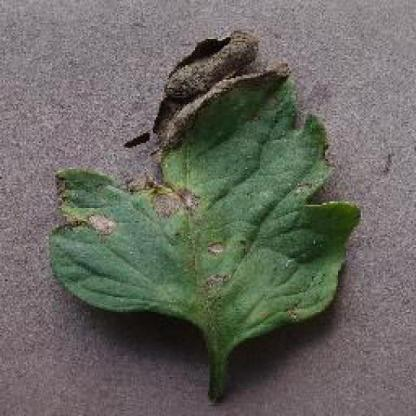Tomato_Blight: (49, 31, 357, 341)
